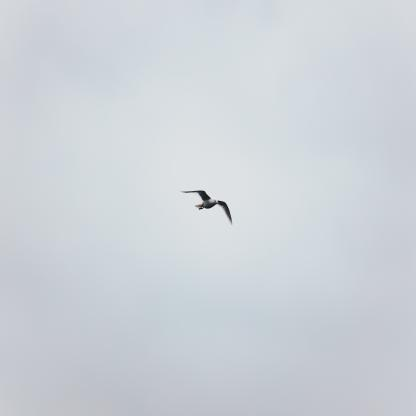bird: (180, 190, 233, 226)
